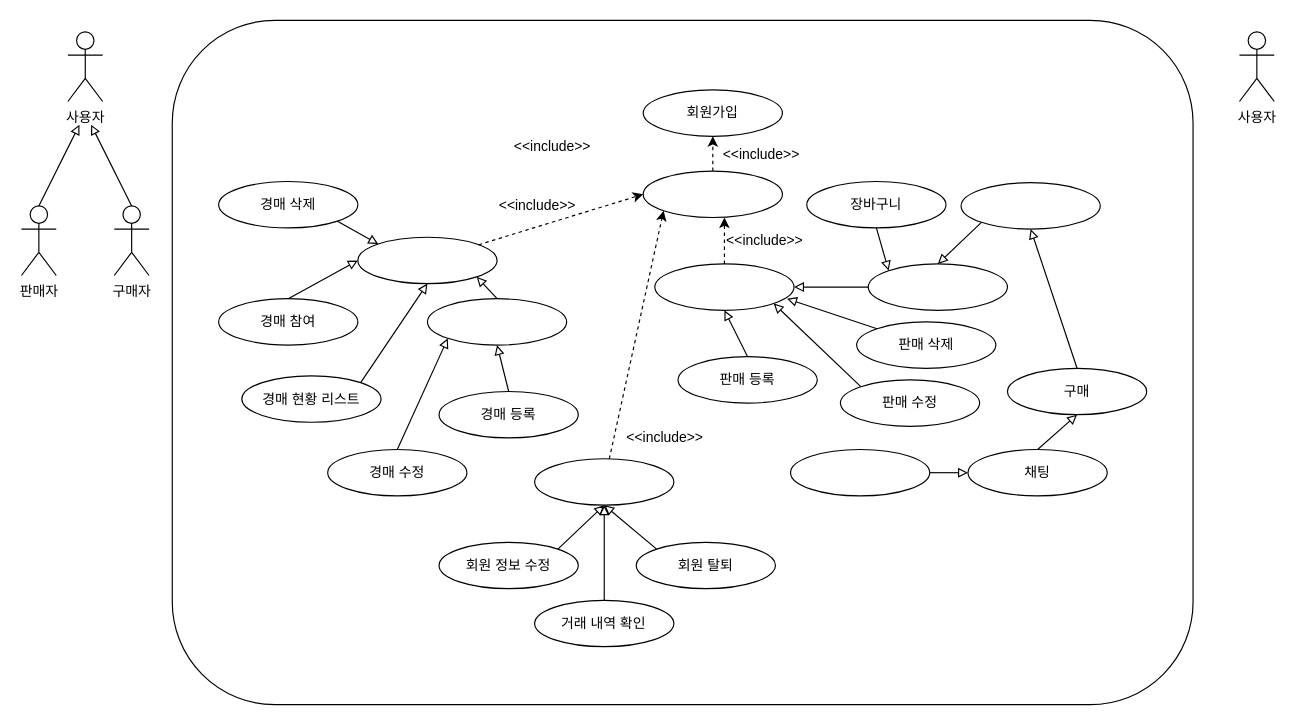
The diagram is 1296 pixels wide and 725 high, and some of its shapes have lost their labels. Here are the shapes that lost their labels. From the top down, the centre of each, then its label:
At (x=712, y=193): "로그인".
At (x=1030, y=205): "세부정보".
At (x=427, y=260): "경매".
At (x=724, y=286): "일반 판매".
At (x=937, y=286): "판매 리스트".
At (x=496, y=321): "낙찰".
At (x=603, y=481): "마이페이지".
At (x=859, y=472): "직거래 약속 잡기".
